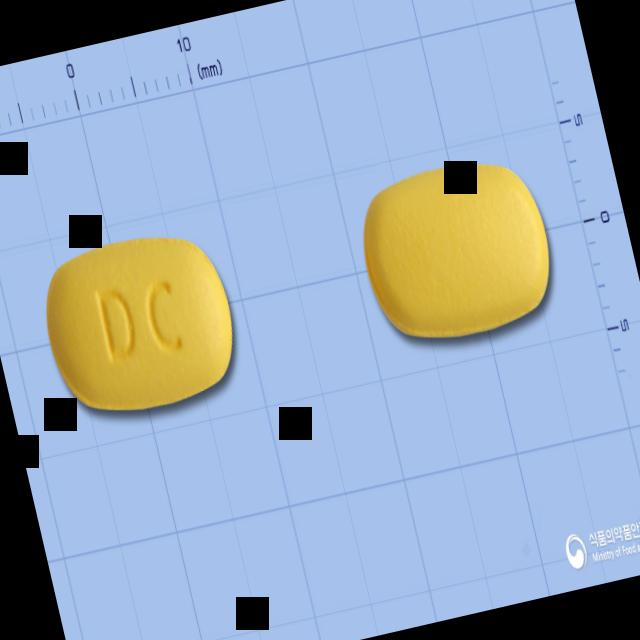Clabicks: (28, 217, 254, 435)
